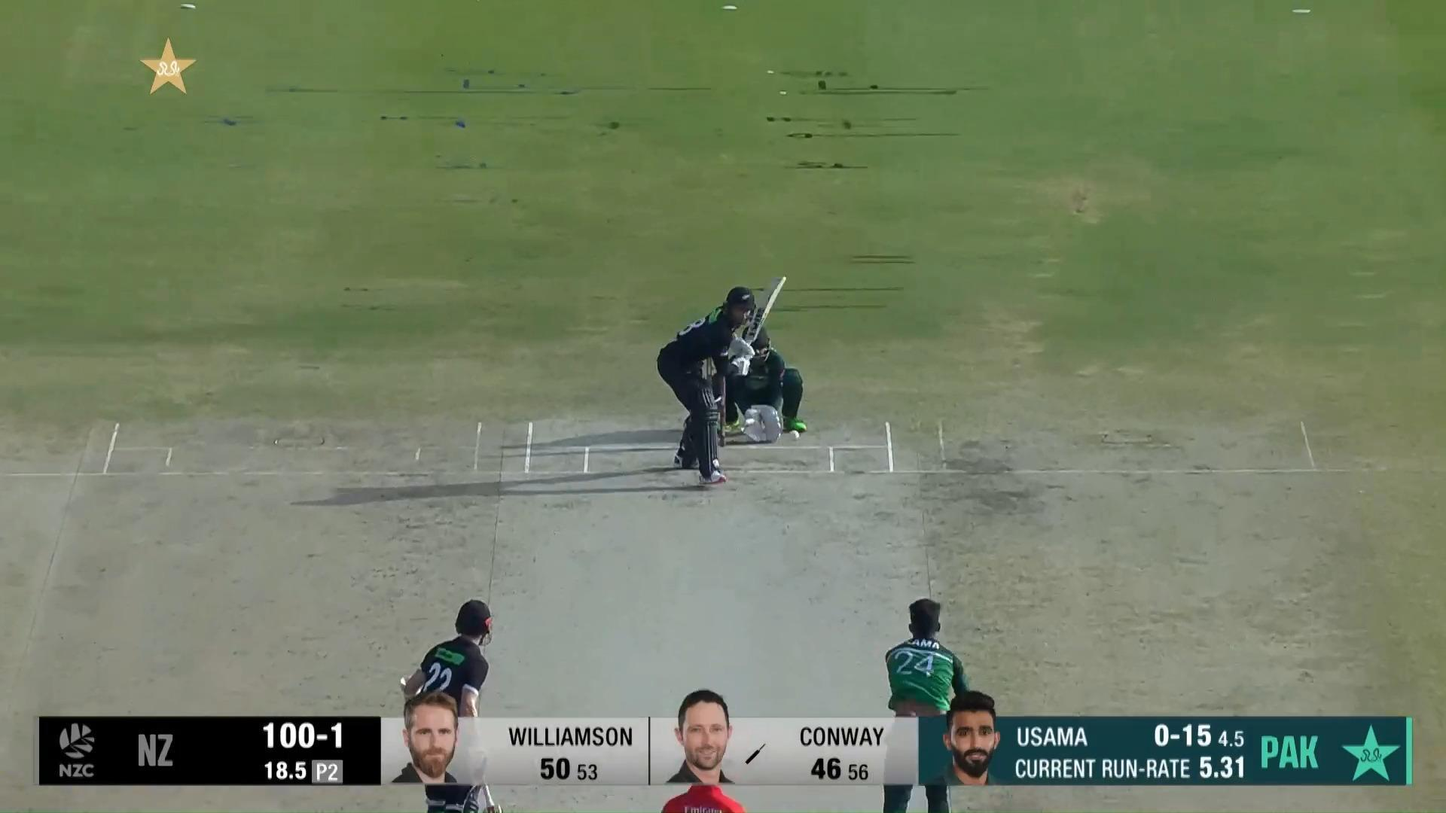BM 1: (656, 276, 786, 485)
BO: (882, 598, 972, 813)
